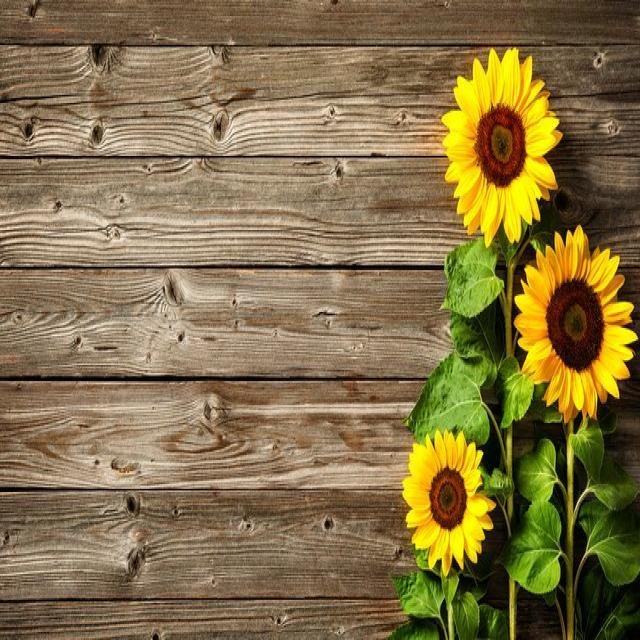sunflower: (513, 223, 637, 423), (440, 45, 563, 246), (401, 428, 496, 576)
